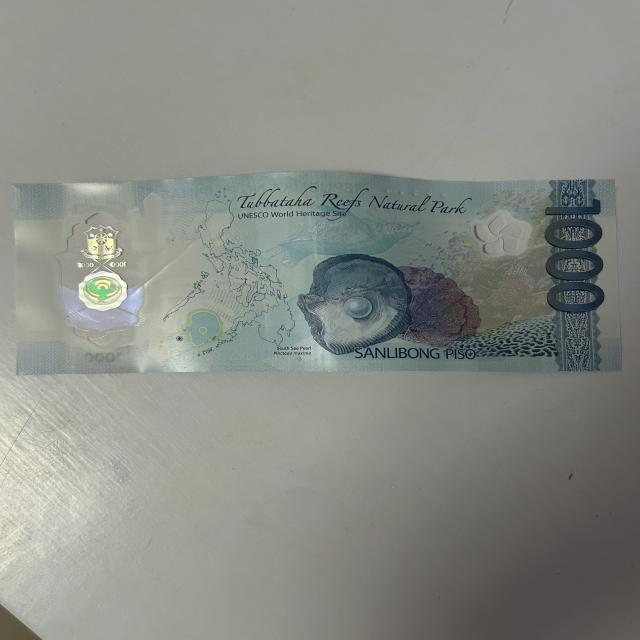clear_window: (46, 199, 150, 359)
sampaguita: (464, 205, 534, 260)
value: (538, 190, 606, 316)
